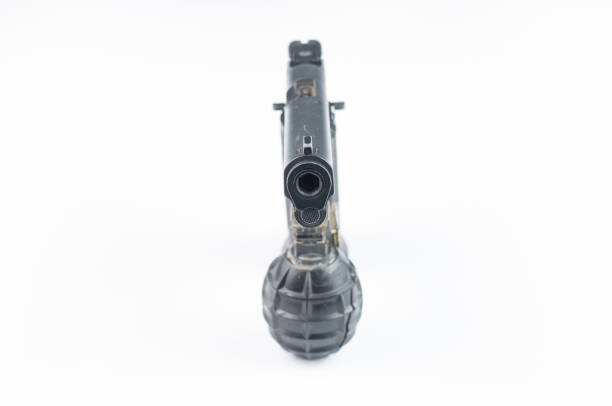e1: (256, 207, 371, 364)
